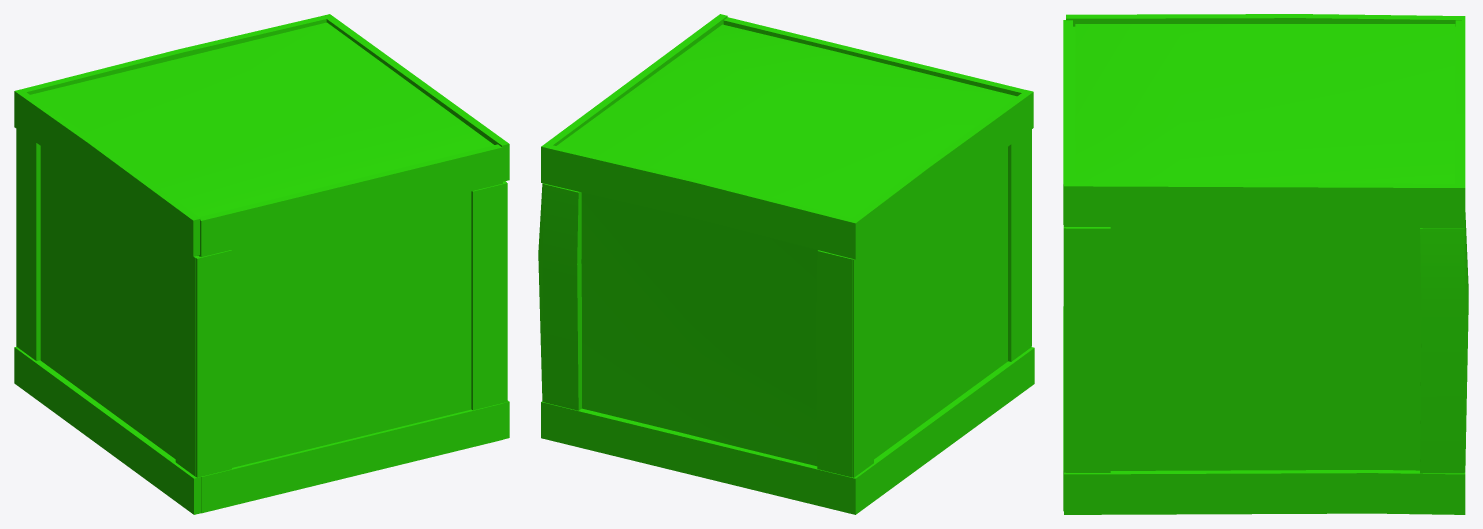
Rendered from Woodbox_05B_Lod0.fbx.
3 renders of one model, left to right at view 1: azimuth 30°, elevation 25°; view 2: azimuth 150°, elevation 25°; view 3: azimuth 270°, elevation 25°, orthographic. The views are drawn at different scales.
Parts seen in each view (by area): view 1: Woodbox_05B_Lod0; view 2: Woodbox_05B_Lod0; view 3: Woodbox_05B_Lod0.
Part boxes in pixels (<box>): Woodbox_05B_Lod0: <box>14,14,509,514</box>; Woodbox_05B_Lod0: <box>538,14,1034,514</box>; Woodbox_05B_Lod0: <box>1063,14,1468,514</box>.
Size of the model in its own units: 144 by 128 by 142.
